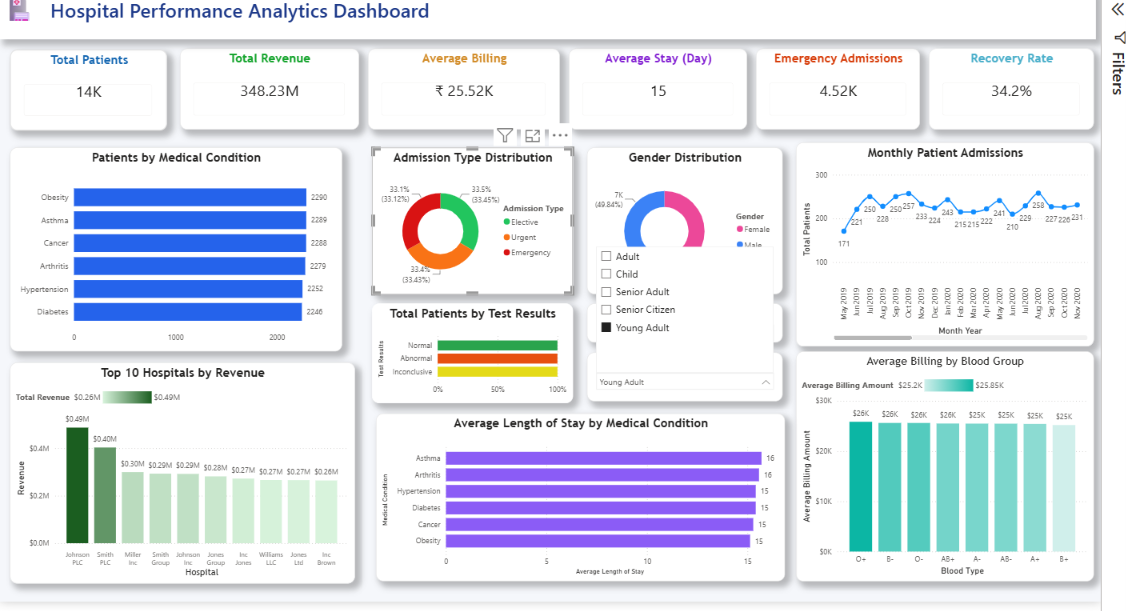

This screenshot's page, from the dashboard's own definition file:
{"tool":"powerbi","page":{"name":"Page 1","canvas":[1800,1000],"ordinal":0},"visuals":[{"type":"cardVisual","title":"Total Revenue","fields":{"Data":["healthcare_dataset.Total Revenue"]},"box":[294.3,94.8,292.7,132.4],"z":0},{"type":"cardVisual","title":"Total Patients","fields":{"Data":["healthcare_dataset.Total Patients"]},"box":[16,96,256.7,132.4],"z":1000},{"type":"cardVisual","title":"Average Billing","fields":{"Data":["healthcare_dataset.Average Billing Amount"]},"box":[601.7,94.8,314,132.4],"z":2000},{"type":"cardVisual","title":"Average Stay (Day)","fields":{"Data":["healthcare_dataset.Average Length of Stay"]},"box":[930.4,94.8,291.1,132.4],"z":3000},{"type":"cardVisual","title":"Emergency Admissions","fields":{"Data":["healthcare_dataset.Emergency Admissions"]},"box":[1236.2,94.8,268.2,132.4],"z":4000},{"type":"clusteredBarChart","title":"Patients by Medical Condition  ","fields":{"Category":["healthcare_dataset.Medical Condition"],"Y":["healthcare_dataset.Total Patients"]},"box":[16,256,542.9,333.6],"z":5000},{"type":"textbox","box":[0,0,1792,80],"z":6000},{"type":"lineChart","title":"Monthly Patient Admissions","fields":{"Category":["healthcare_dataset.Month Year"],"Y":["healthcare_dataset.Total Patients"]},"box":[1301.6,248.5,487.3,333.6],"z":8000},{"type":"cardVisual","title":"Recovery Rate","fields":{"Data":["healthcare_dataset.Recovery Rate"]},"box":[1519.1,94.8,269.8,132.4],"z":9000},{"type":"donutChart","title":"Gender Distribution","fields":{"Category":["healthcare_dataset.Gender"],"Y":["healthcare_dataset.Total Patients"]},"box":[960,256,320,240],"z":10000},{"type":"donutChart","title":"Admission Type Distribution","fields":{"Category":["healthcare_dataset.Admission Type"],"Y":["healthcare_dataset.Total Patients"]},"box":[608,256,328.7,240.4],"z":11000},{"type":"clusteredColumnChart","title":"Top 10 Hospitals by Revenue","fields":{"Category":["healthcare_dataset.Hospital"],"Y":["healthcare_dataset.Total Revenue"]},"box":[16,608,564.1,361.4],"z":12000},{"type":"hundredPercentStackedBarChart","fields":{"Category":["healthcare_dataset.Test Results"],"Y":["healthcare_dataset.Total Patients"]},"box":[608,512,328.7,163.5],"z":13000},{"type":"slicer","fields":{"Values":["healthcare_dataset.Hospital"]},"box":[960,512,320,64],"z":14000},{"type":"slicer","fields":{"Values":["healthcare_dataset.Age Category"]},"box":[960,592,320,80],"z":15000},{"type":"clusteredColumnChart","title":"Average Billing by Blood Group","fields":{"Category":["healthcare_dataset.Blood Type"],"Y":["healthcare_dataset.Average Billing Amount"]},"box":[1301.6,590.3,487,376],"z":16000},{"type":"clusteredBarChart","fields":{"Category":["healthcare_dataset.Medical Condition"],"Y":["healthcare_dataset.Average Length of Stay"]},"box":[614.8,691.7,668.8,274.7],"z":17000}]}

Visuals, with their boxes in screenshot pixels (x1, y1, x2, y2):
"Total Revenue" cardVisual: rect(187, 51, 364, 131)
"Total Patients" cardVisual: rect(18, 52, 174, 132)
"Average Billing" cardVisual: rect(372, 51, 562, 131)
"Average Stay (Day)" cardVisual: rect(571, 51, 747, 131)
"Emergency Admissions" cardVisual: rect(756, 51, 918, 131)
"Patients by Medical Condition  " clusteredBarChart: rect(18, 149, 347, 350)
textbox: rect(9, 0, 1092, 42)
"Monthly Patient Admissions" lineChart: rect(795, 144, 1090, 346)
"Recovery Rate" cardVisual: rect(927, 51, 1090, 131)
"Gender Distribution" donutChart: rect(589, 149, 782, 294)
"Admission Type Distribution" donutChart: rect(376, 149, 575, 294)
"Top 10 Hospitals by Revenue" clusteredColumnChart: rect(18, 362, 359, 580)
hundredPercentStackedBarChart - healthcare_dataset.Test Results x healthcare_dataset.Total Patients: rect(376, 304, 575, 402)
slicer - healthcare_dataset.Hospital: rect(589, 304, 782, 342)
slicer - healthcare_dataset.Age Category: rect(589, 352, 782, 400)
"Average Billing by Blood Group" clusteredColumnChart: rect(795, 351, 1090, 578)
clusteredBarChart - healthcare_dataset.Medical Condition x healthcare_dataset.Average Length of Stay: rect(380, 412, 785, 578)
